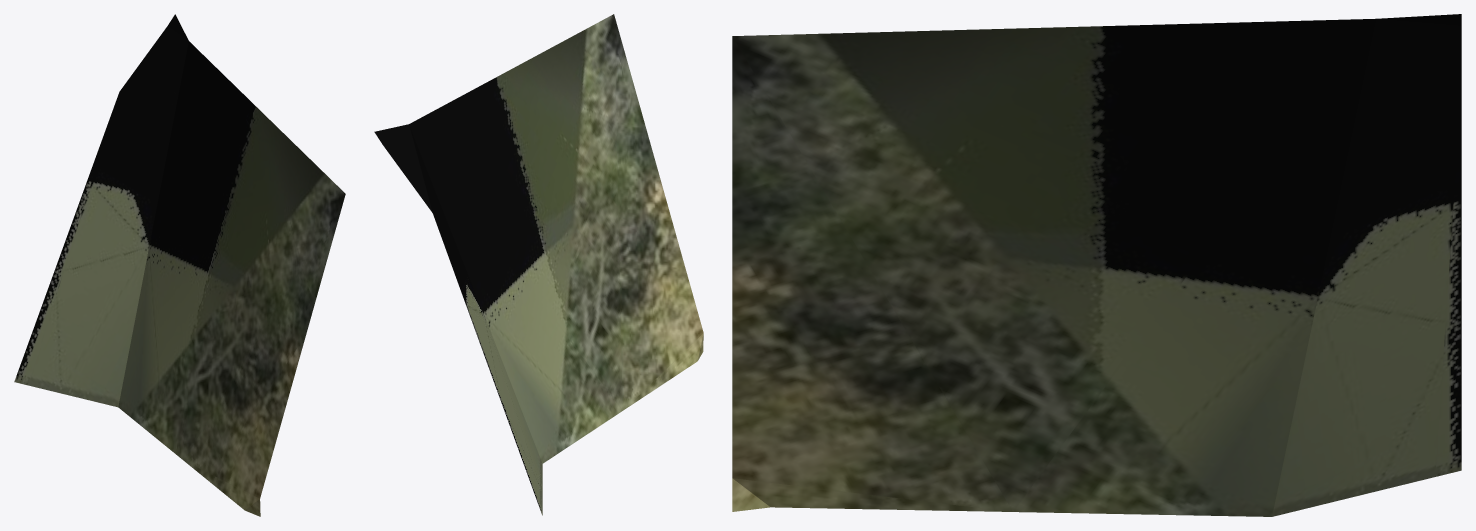
The picture shows the model from 3 angles, left to right: view 1: azimuth 30°, elevation 25°; view 2: azimuth 150°, elevation 25°; view 3: azimuth 270°, elevation 25°; orthographic projection. The views are drawn at different scales.
Size of the model in its own units: 2.75 by 5.36 by 5.9.
Materials: 2 (2 with a texture image).
